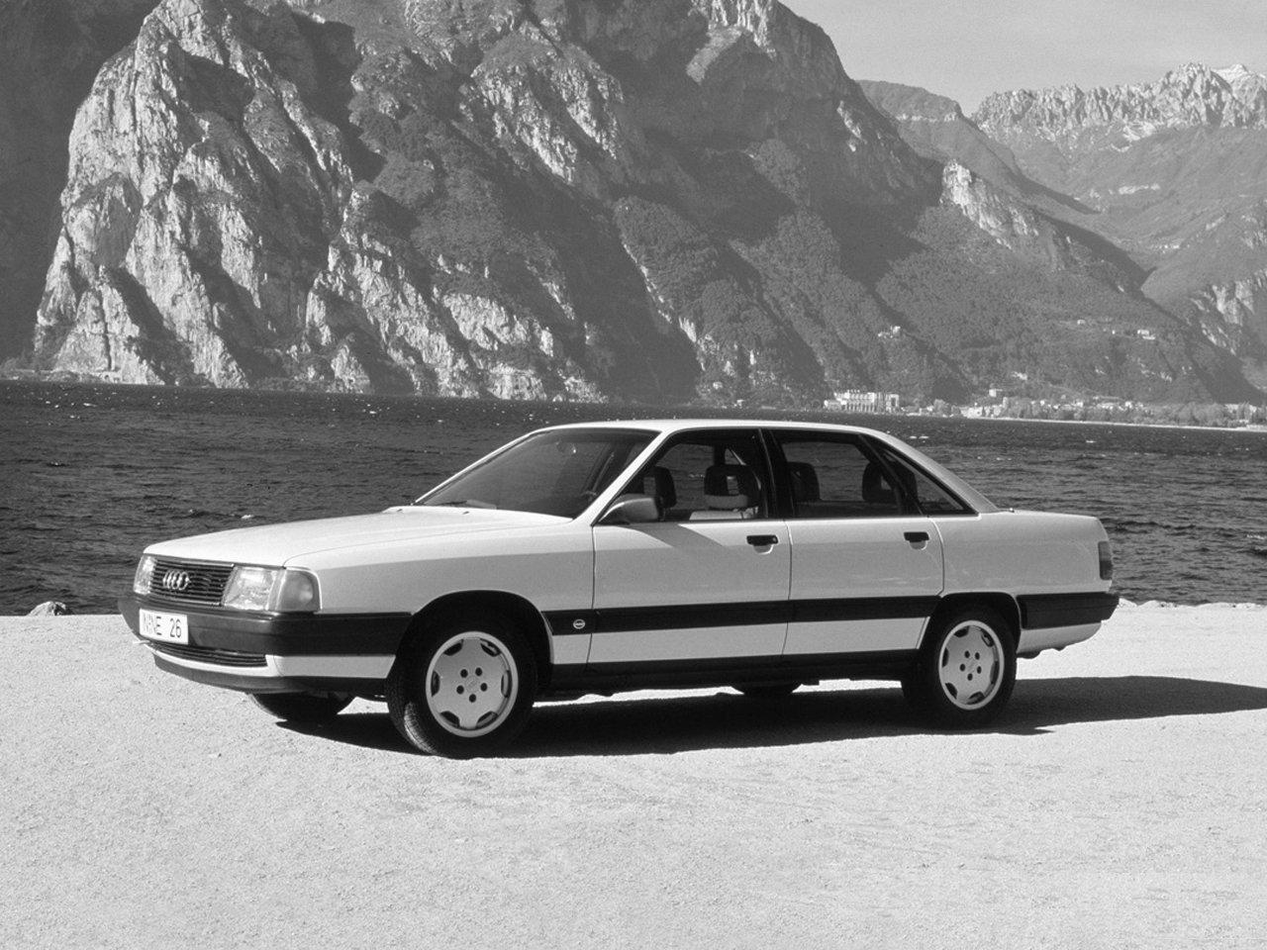car: (122, 417, 1118, 763)
